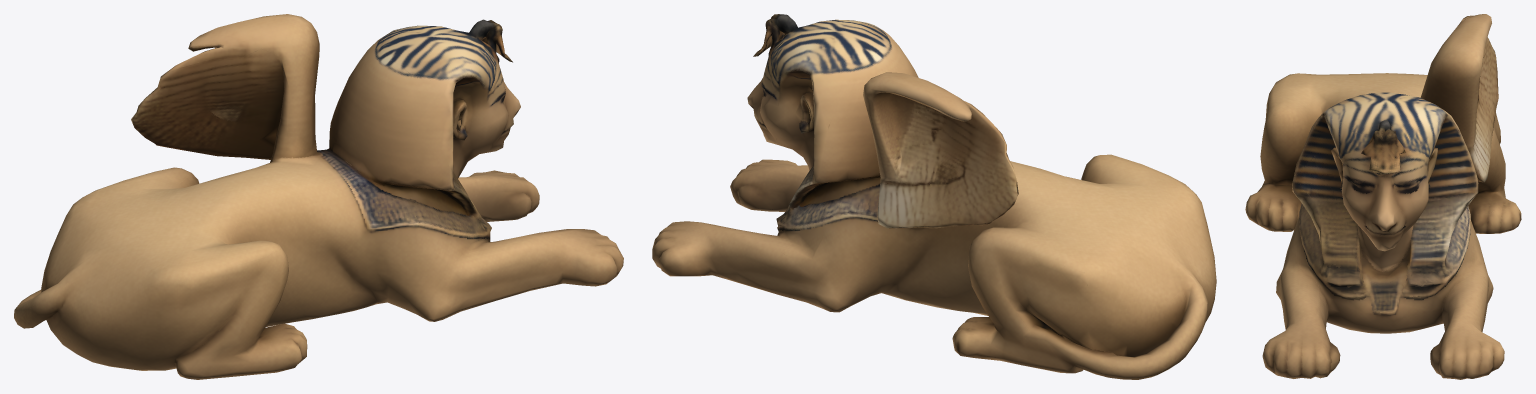
File: sphinx.glb
The picture shows the model from 3 angles, left to right: view 1: azimuth 30°, elevation 25°; view 2: azimuth 150°, elevation 25°; view 3: azimuth 270°, elevation 25°; orthographic projection. The views are drawn at different scales.
Visible parts, largest first — view 1: geometry_0; view 2: geometry_0; view 3: geometry_0.
Part boxes in pixels (x1,y1,x2,y2): geometry_0: (14, 14, 623, 379); geometry_0: (652, 14, 1216, 379); geometry_0: (1245, 14, 1521, 379).
Size of the model in its own units: 1 by 0.4482 by 0.4804.
Materials: 1 (1 with a texture image).
